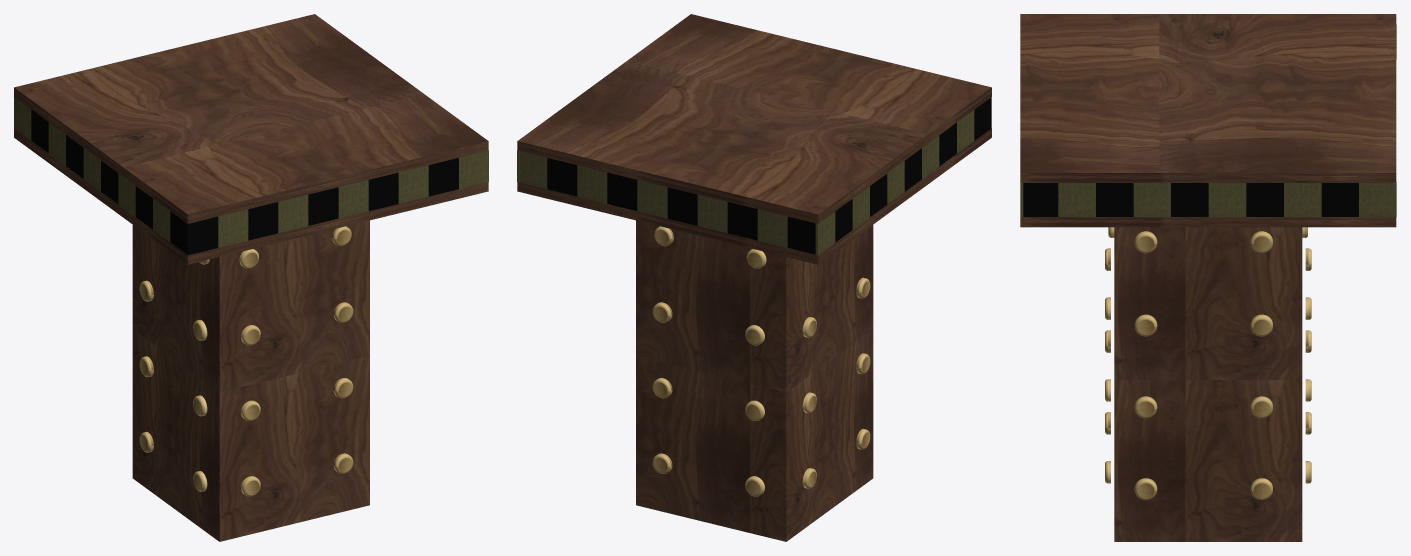
File: TOTEM SIDETABLE.glb
3 renders of one model, left to right at view 1: azimuth 30°, elevation 25°; view 2: azimuth 150°, elevation 25°; view 3: azimuth 270°, elevation 25°, orthographic. The views are drawn at different scales.
Bounding box in the file's own units: 0.5006 × 0.5997 × 0.5006.
Materials: 4 (3 with a texture image).
